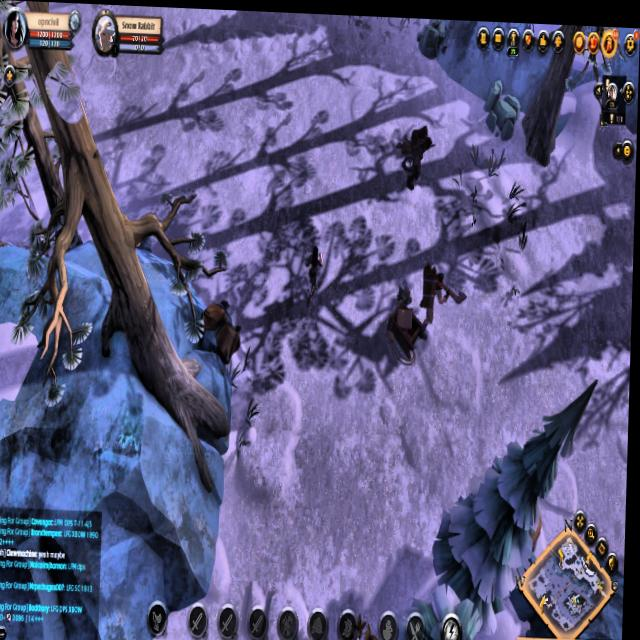mob: (420, 250, 471, 342), (400, 115, 437, 187)
sandstone: (481, 84, 525, 135), (415, 15, 448, 63)
